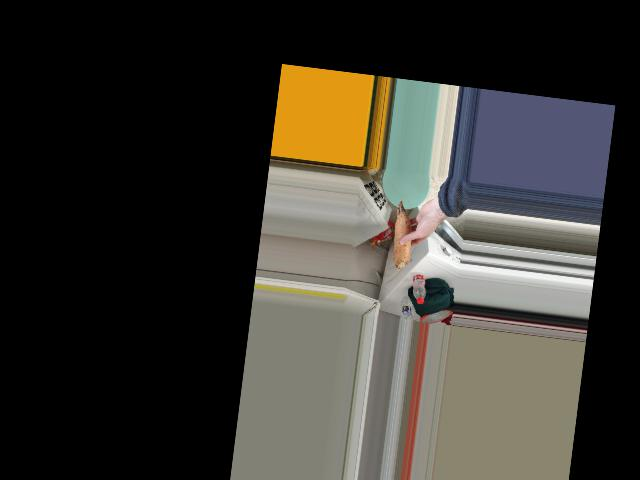sweet_potato: (385, 198, 421, 273)
